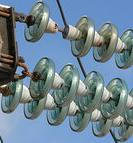gap: (23, 2, 95, 58)
